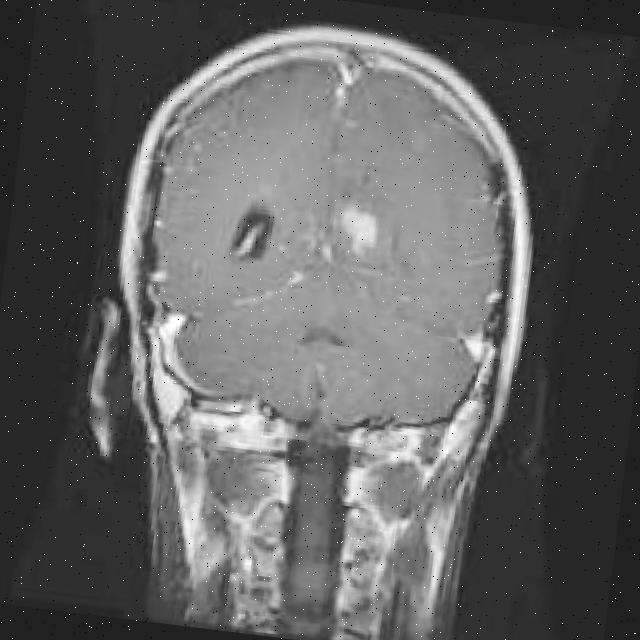LMCI: (320, 178, 442, 310)
MCI: (238, 204, 300, 279)
